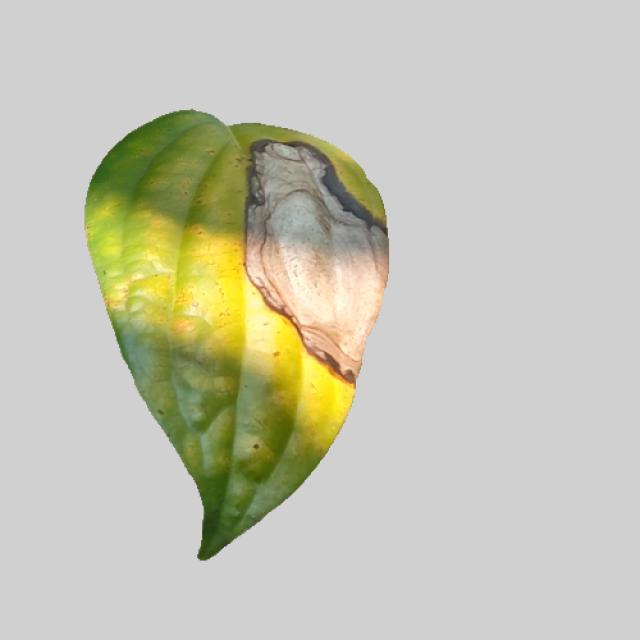leaf-blight: (69, 115, 398, 561)
